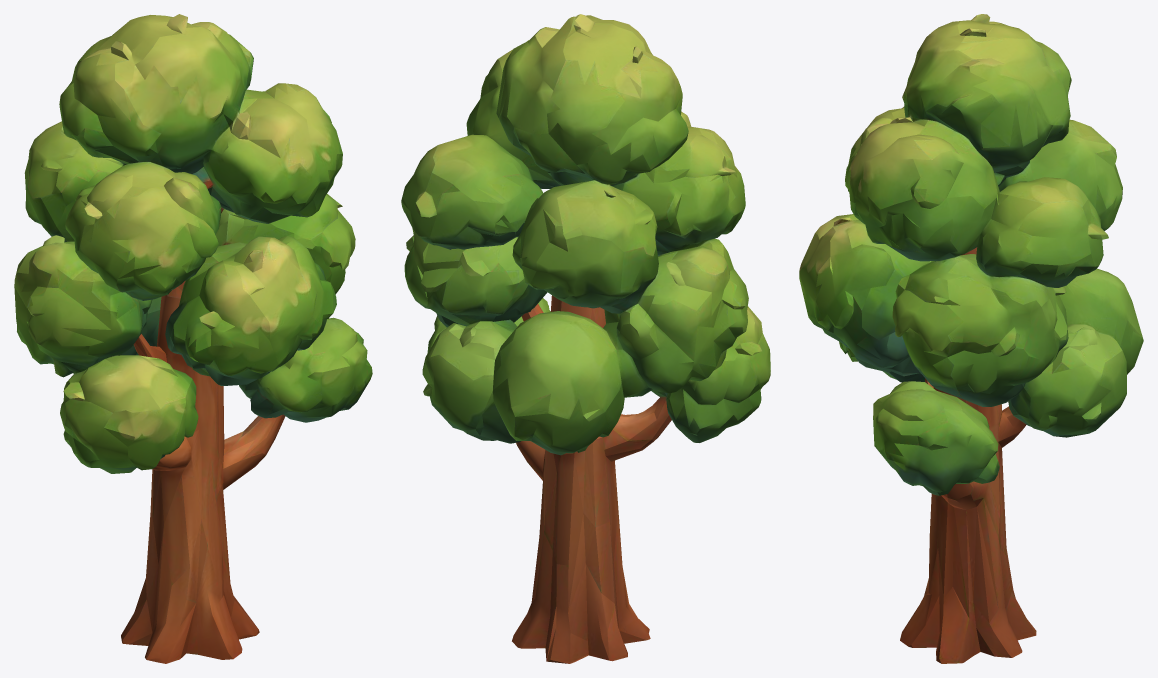
File: tree_b.glb
3 views of the same model, side by side, from view 1: azimuth 30°, elevation 25°; view 2: azimuth 150°, elevation 25°; view 3: azimuth 270°, elevation 25° (orthographic). The views are drawn at different scales.
Visible parts, largest first — view 1: tree_b; view 2: tree_b; view 3: tree_b.
Boxes of the visible parts, <box> form: tree_b: <box>14,14,372,663</box>; tree_b: <box>401,14,770,663</box>; tree_b: <box>799,14,1143,663</box>.
Size of the model in its own units: 11.87 by 22 by 11.31.
Materials: 1 (1 with a texture image).
